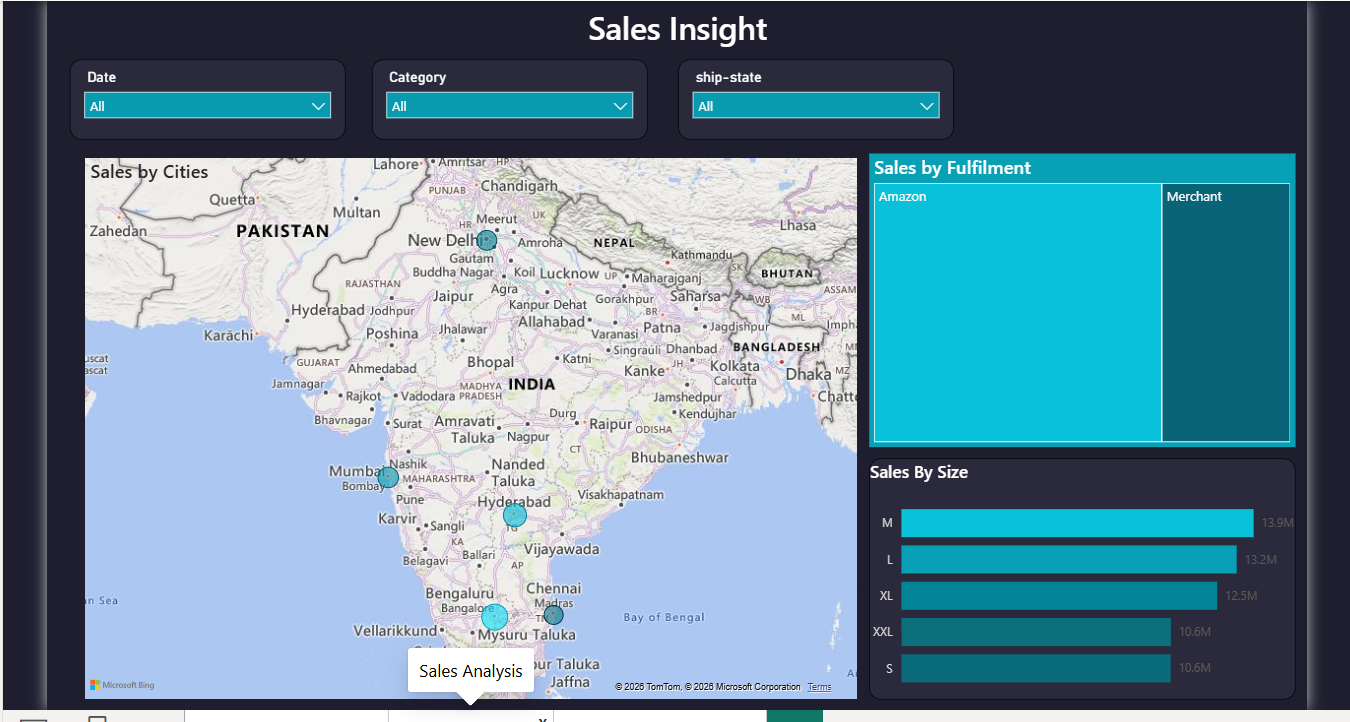

This screenshot's page, from the dashboard's own definition file:
{"tool":"powerbi","page":{"name":"Sales Analysis","canvas":[1280,720],"ordinal":1},"visuals":[{"type":"slicer","fields":{"Values":["Cleaned_Amazon_Sale_Report.Date"]},"box":[23.7,59.3,279.7,81.4],"z":0},{"type":"slicer","fields":{"Values":["Cleaned_Amazon_Sale_Report.ship-state"]},"box":[640.7,59.3,279.7,81.4],"z":1000},{"type":"slicer","fields":{"Values":["Cleaned_Amazon_Sale_Report.Category"]},"box":[330.5,59.3,279.7,81.4],"z":2000},{"type":"map","title":"Top 5 Cities by Sales","fields":{"Category":["Cleaned_Amazon_Sale_Report.ship-city"],"Size":["Cleaned_Amazon_Sale_Report.Total Sales"]},"box":[39,154.2,615.3,554.2],"z":3000,"group":"g1"},{"type":"barChart","title":"Sales By Size","fields":{"Category":["Cleaned_Amazon_Sale_Report.Size"],"Y":["Cleaned_Amazon_Sale_Report.Total Sales"]},"box":[664.4,464.4,572.9,244.1],"z":3000},{"type":"group","id":"g1","title":"Group 1","box":[39,154.2,615.3,554.2],"z":4000},{"type":"textbox","box":[39,154.2,149.2,47.5],"z":5000},{"type":"treemap","title":" Sales by Fulfilment","fields":{"Group":["Cleaned_Amazon_Sale_Report.Fulfilment"],"Values":["Cleaned_Amazon_Sale_Report.Total Sales"]},"box":[664.4,154.2,572.9,298.3],"z":6000},{"type":"textbox","box":[308.5,0,664.4,59.3],"z":7000}]}

Visuals, with their boxes on the page's 1280x720 design canvas (x1, y1, x2, y2). These are canvas units, not pixel positions in the 1350x722 screenshot, which may show the page scaled, cropped or inside an application window:
slicer - Cleaned_Amazon_Sale_Report.Date: crop(24, 59, 303, 141)
slicer - Cleaned_Amazon_Sale_Report.ship-state: crop(641, 59, 920, 141)
slicer - Cleaned_Amazon_Sale_Report.Category: crop(330, 59, 610, 141)
"Top 5 Cities by Sales" map: crop(39, 154, 654, 708)
"Sales By Size" barChart: crop(664, 464, 1237, 708)
"Group 1" group: crop(39, 154, 654, 708)
textbox: crop(39, 154, 188, 202)
" Sales by Fulfilment" treemap: crop(664, 154, 1237, 452)
textbox: crop(308, 0, 973, 59)
